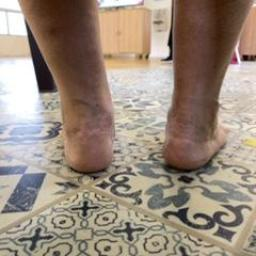Back View -Both Feet-: (36, 58, 246, 194)
